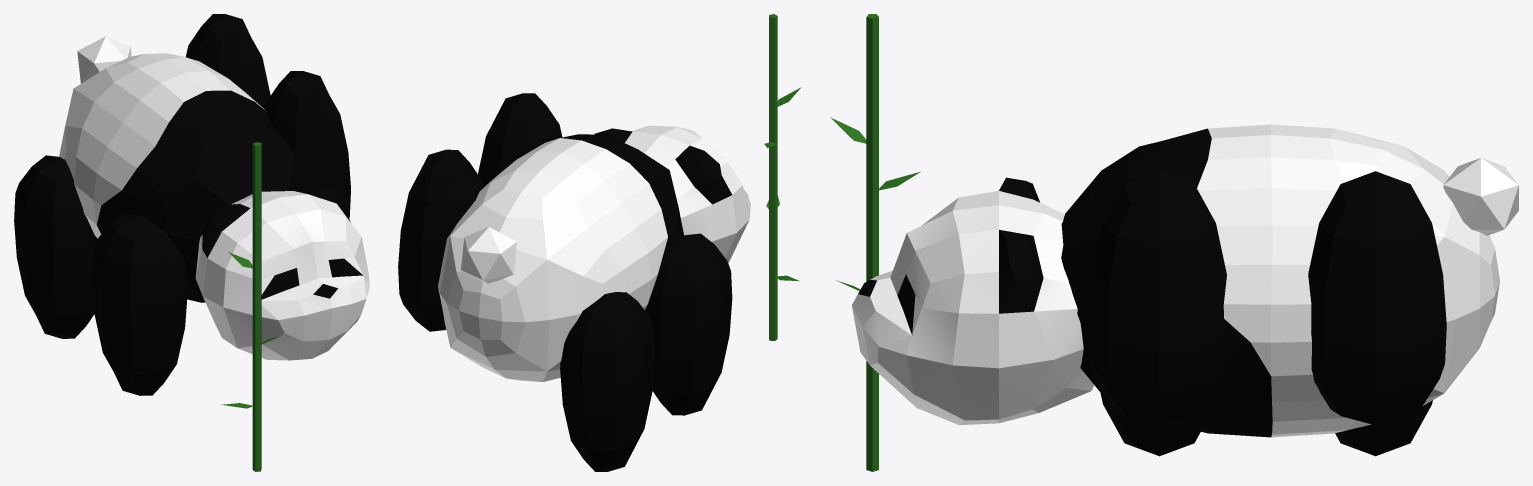
Rendered from panda.FBX.
3 renders of one model, left to right at view 1: azimuth 30°, elevation 25°; view 2: azimuth 150°, elevation 25°; view 3: azimuth 270°, elevation 25°, orthographic. The views are drawn at different scales.
Visible parts, largest first — view 1: body, head, leg_fr, leg_rr, leg_fl, leg_rl, bamboo_stick, tail; view 2: body, leg_rr, leg_fr, leg_rl, head, leg_fl, bamboo_stick, tail; view 3: body, head, leg_fl, leg_rl, bamboo_stick, tail, leg_fr, leg_rr.
Part boxes in pixels (x1=…): body: x1=59, y1=53, x2=302, y2=302; head: x1=195, y1=183, x2=369, y2=360; leg_fr: x1=92, y1=213, x2=187, y2=395; leg_rr: x1=14, y1=155, x2=97, y2=338; leg_fl: x1=264, y1=71, x2=350, y2=217; leg_rl: x1=185, y1=14, x2=270, y2=108; bamboo_stick: x1=221, y1=142, x2=281, y2=471; tail: x1=77, y1=36, x2=131, y2=83; body: x1=438, y1=134, x2=683, y2=381; leg_rr: x1=560, y1=292, x2=655, y2=471; leg_fr: x1=649, y1=233, x2=732, y2=415; leg_rl: x1=398, y1=149, x2=483, y2=331; head: x1=594, y1=125, x2=750, y2=262; leg_fl: x1=478, y1=93, x2=562, y2=186; bamboo_stick: x1=764, y1=14, x2=801, y2=340; tail: x1=460, y1=227, x2=516, y2=283; body: x1=1061, y1=124, x2=1499, y2=437; head: x1=851, y1=177, x2=1093, y2=425; leg_fl: x1=1088, y1=171, x2=1226, y2=425; leg_rl: x1=1308, y1=171, x2=1446, y2=425; bamboo_stick: x1=830, y1=14, x2=920, y2=471; tail: x1=1443, y1=157, x2=1518, y2=235; leg_fr: x1=1100, y1=393, x2=1200, y2=456; leg_rr: x1=1335, y1=400, x2=1432, y2=456.
Bounding box in the file's own units: 61.7 × 80.12 × 110.
